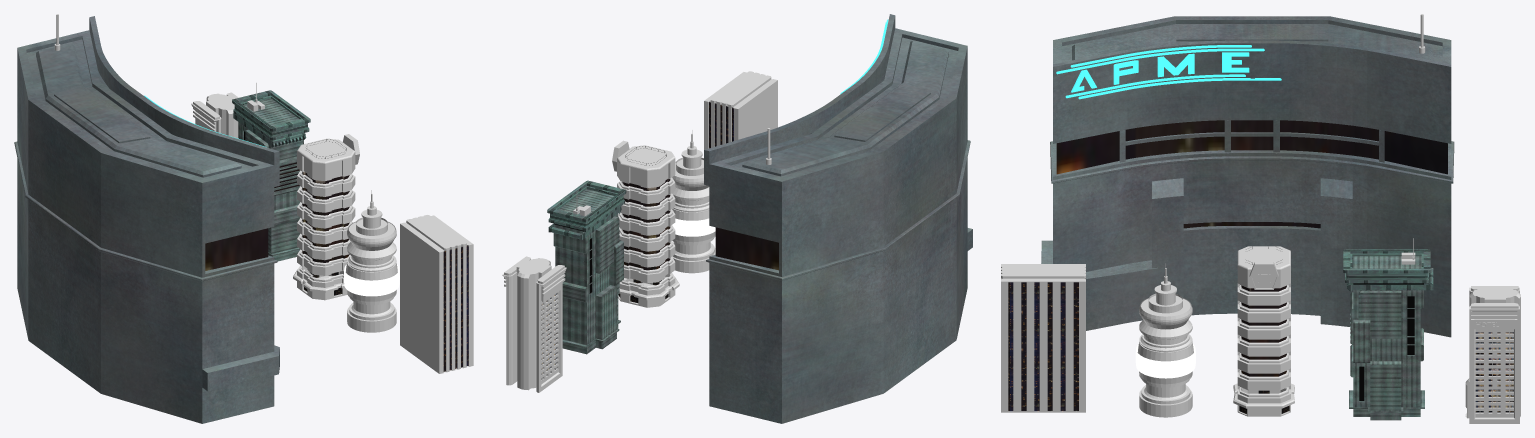
The model's file is Building(Retextured).fbx.
The picture shows the model from 3 angles, left to right: view 1: azimuth 30°, elevation 25°; view 2: azimuth 150°, elevation 25°; view 3: azimuth 270°, elevation 25°; orthographic projection. The views are drawn at different scales.
Parts seen in each view (by area): view 1: Cube.033, Cube.017, Cube.014, Cylinder.001, Cube.005, Cube.018, Cube.048, Cylinder.002, Cube.007, Cube.049, Cube, Cube.006 (+2 smaller); view 2: Cube.033, Cube.005, Cube.014, Cube.001, Cube.017, Cylinder.001, Cube, Cube.018, Cube.007, Cube.049, Cube.006, Cylinder.002 (+2 smaller); view 3: Cube.033, Cube.018, Cube.005, Cube.017, Cube.014, Cube.001, Cylinder.001, Cube.048, Plane.003, Cube.007, Cube, Cube.053 (+10 smaller).
Boxes of the visible parts, x1,y1,x2,y2 form: Cube.033: (14, 16, 279, 423); Cube.017: (400, 215, 473, 373); Cube.014: (293, 138, 355, 300); Cylinder.001: (345, 190, 397, 332); Cube.005: (238, 98, 303, 261); Cube.018: (205, 228, 268, 270); Cube.048: (443, 245, 468, 371); Cylinder.002: (344, 264, 399, 296); Cube.007: (232, 90, 310, 131); Cube.049: (302, 172, 349, 262); Cube: (206, 93, 238, 138); Cube.006: (234, 95, 308, 137); Cube.033: (704, 14, 972, 423); Cube.005: (553, 189, 623, 354); Cube.014: (617, 145, 679, 307); Cube.001: (502, 256, 566, 392); Cube.017: (704, 71, 777, 149); Cylinder.001: (672, 130, 715, 273); Cube: (516, 258, 551, 390); Cube.018: (715, 227, 778, 270); Cube.007: (547, 180, 626, 222); Cube.049: (622, 179, 670, 270); Cube.006: (549, 186, 624, 228); Cylinder.002: (672, 218, 715, 236); Cube.033: (1041, 16, 1454, 337); Cube.018: (1056, 120, 1447, 174); Cube.005: (1349, 256, 1424, 420); Cube.017: (1001, 264, 1085, 412); Cube.014: (1233, 246, 1294, 416); Cube.001: (1469, 286, 1519, 423); Cylinder.001: (1137, 264, 1193, 417); Cube.048: (1008, 282, 1078, 411); Plane.003: (1071, 52, 1249, 92); Cube.007: (1343, 249, 1430, 273); Cube: (1465, 286, 1520, 418); Cube.053: (1475, 332, 1513, 412).
Bounding box in the file's own units: 12051 × 10760 × 16956.
Materials: 19 (10 with a texture image).
